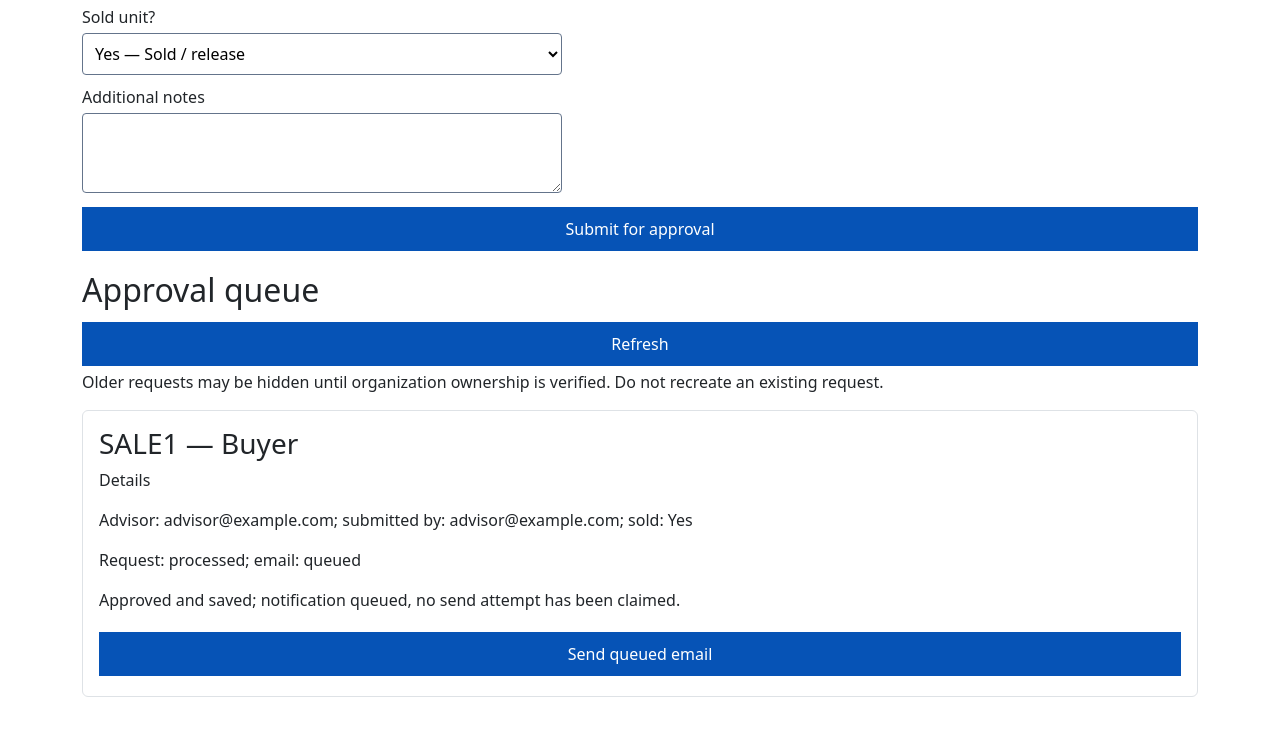
accepted response stays visible if subsequent fetch fails; no resend offered
(page scrolled)
Click the button "Send queued email" at (640, 654), box [99,632,1181,676]
(page scrolled)
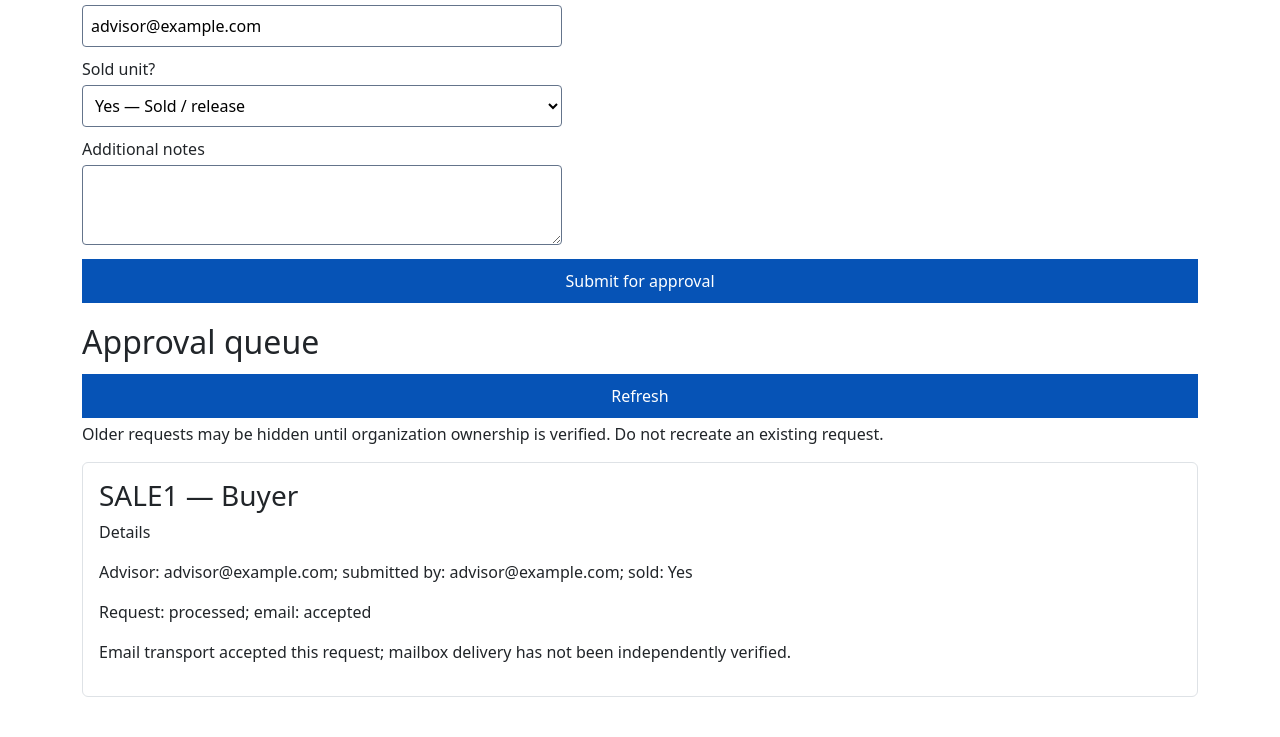
Expected: the text "Request: processed; email: accepted" is shown, [99,601,371,623]
Expected: the button "Send queued email" is gone
